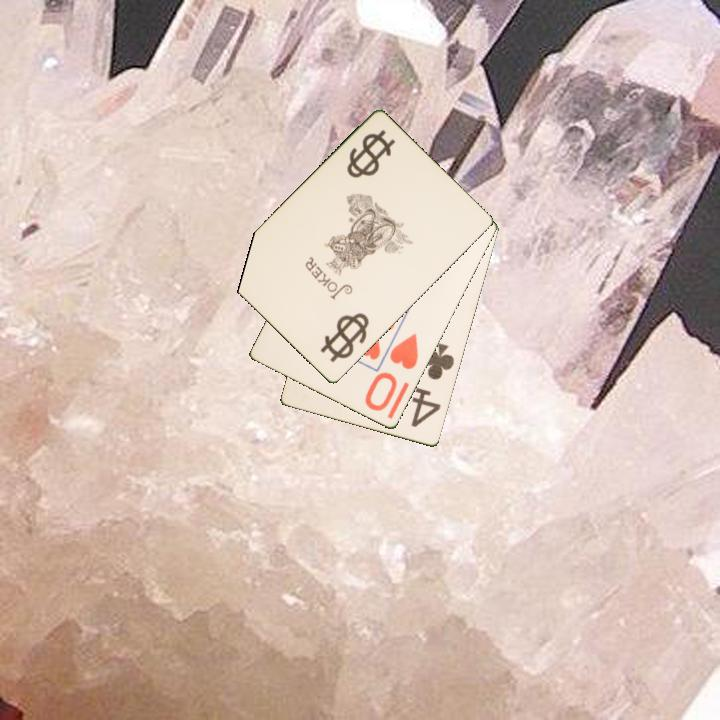10h: (362, 330, 421, 414)
4c: (408, 340, 457, 430)
JK: (343, 126, 399, 182), (326, 313, 368, 358)
